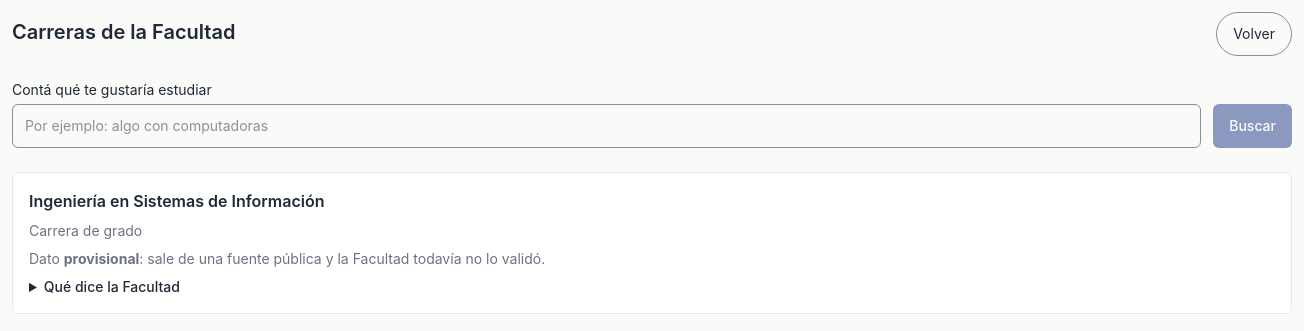
Test: Carreras › una búsqueda sin resultados lo dice en vez de mostrar una lista vacía
This screenshot has width=1304, height=331.
Expected: the heading "Ingeniería en Sistemas de Información" is shown, [29,191,324,211]
In the search field: (607, 126) [12,104,1201,148], type "astronomía"
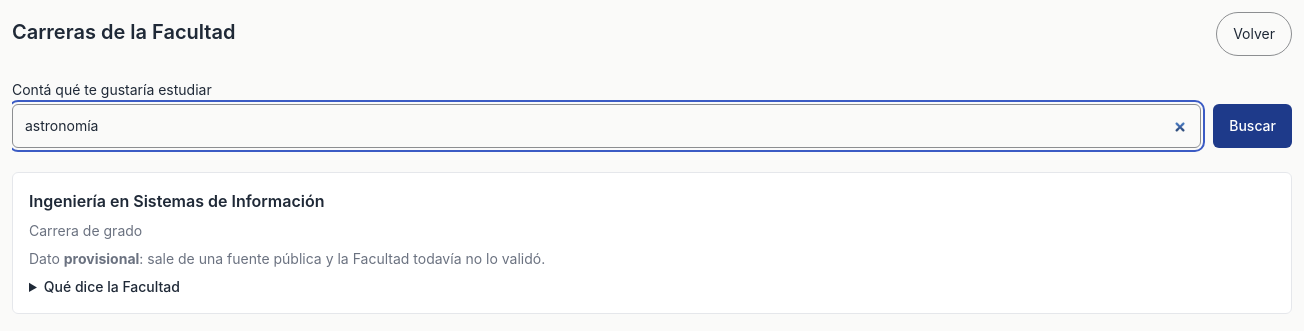
Click the button "Buscar": click(1253, 126) [1213,104,1292,148]
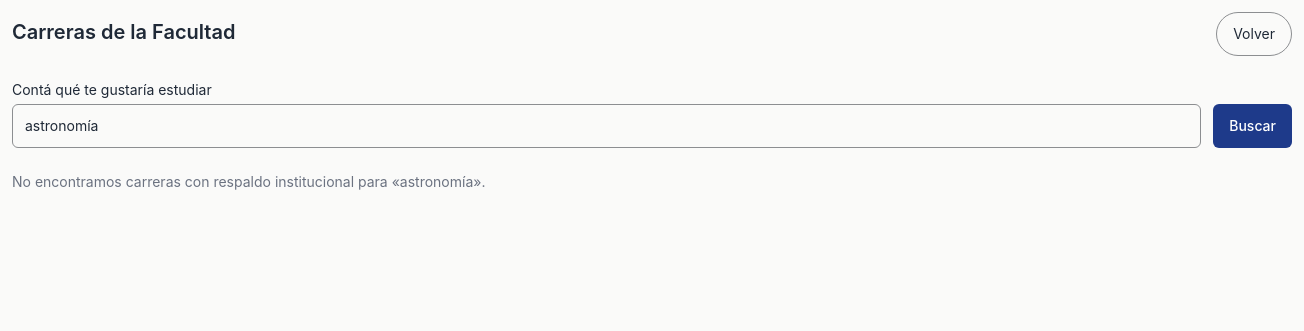
Expected: the text "No encontramos carreras" is shown, [12,173,485,190]
